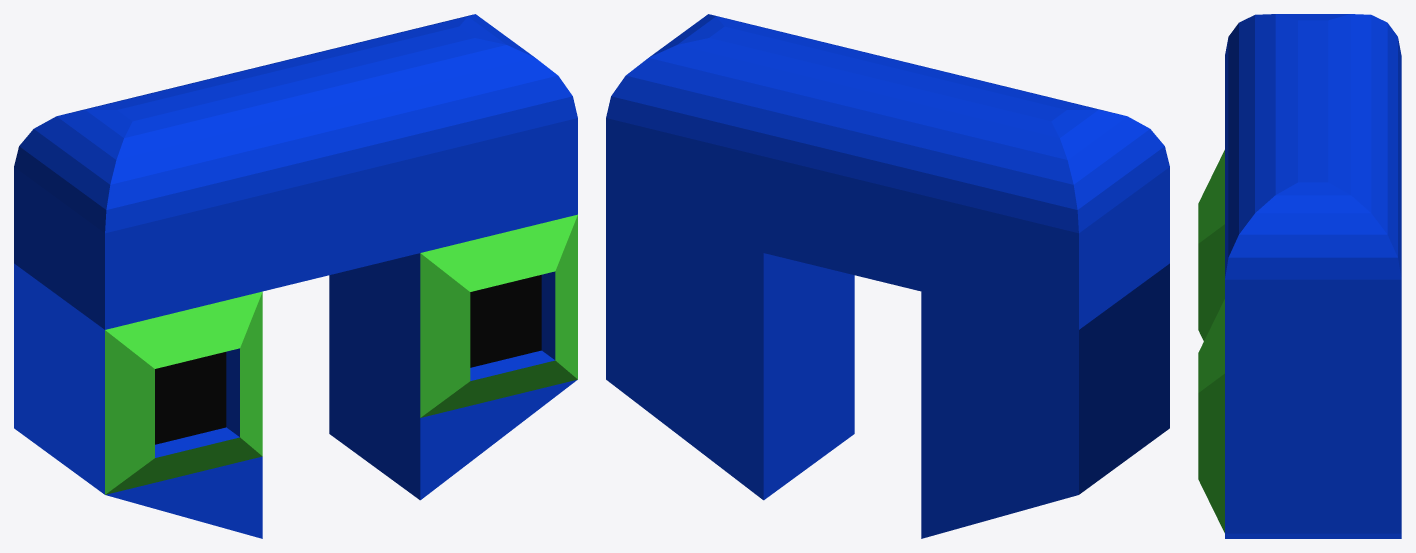
File: obstacleWithEgg.fbx
3 renders of one model, left to right at view 1: azimuth 30°, elevation 25°; view 2: azimuth 150°, elevation 25°; view 3: azimuth 270°, elevation 25°, orthographic. The views are drawn at different scales.
Parts seen in each view (by area): view 1: EyeBrow; view 2: EyeBrow; view 3: EyeBrow.
Part boxes in pixels (x1,y1,x2,y2): EyeBrow: (14,14,577,538); EyeBrow: (606,14,1169,538); EyeBrow: (1198,14,1401,538).
Size of the model in its own units: 6 by 5 by 2.3.
